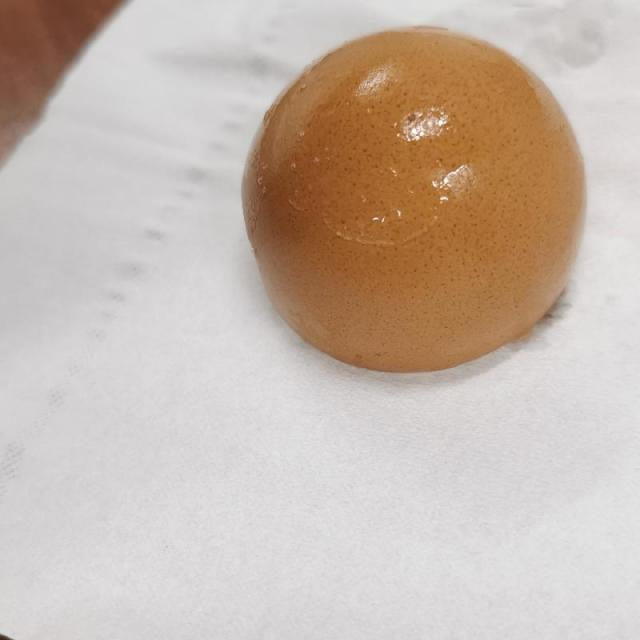egg shell: (235, 34, 588, 375)
